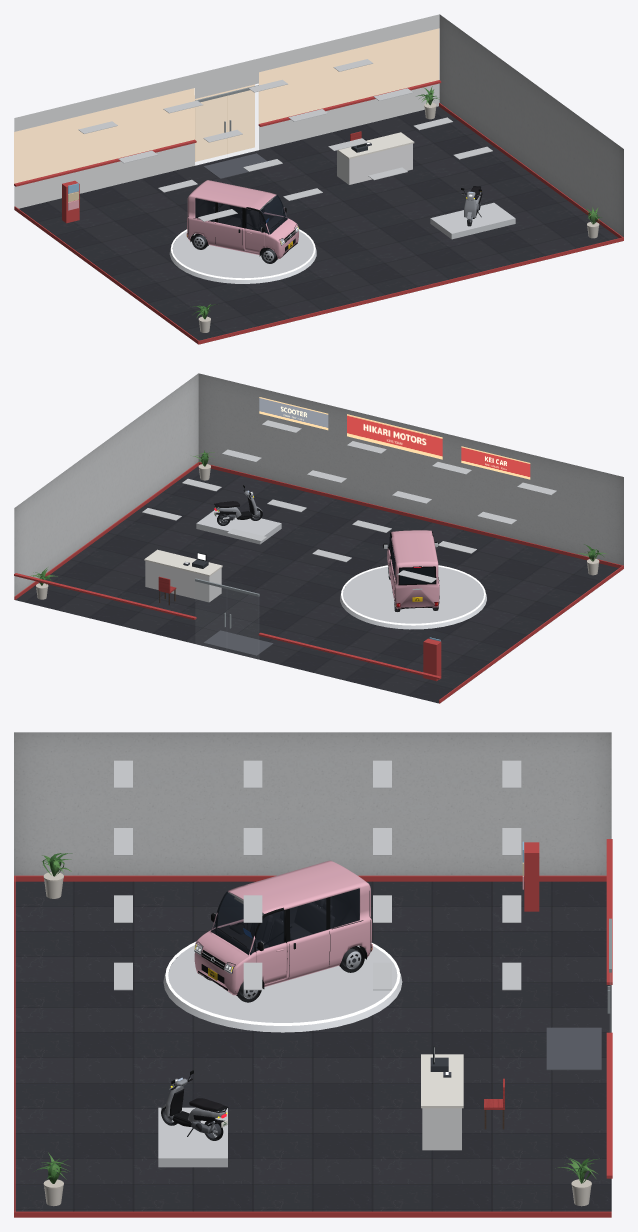
The model's file is interior-motors.opt.glb.
The picture shows the model from 3 angles, top to bottom: view 1: azimuth 30°, elevation 25°; view 2: azimuth 150°, elevation 25°; view 3: azimuth 270°, elevation 25°; orthographic projection. The views are drawn at different scales.
Visible parts, largest first — view 1: object 1, interior:motors:street-view, object 31, object 32, turntable, object 34, object 36; view 2: object 1, object 31, object 34, turntable, object 36, name-sign, object 27, object 28, object 32; view 3: object 1, object 31, turntable, object 34, object 36, object 32, object 39.
Boxes of the visible parts, left/top/right/bottom form: object 1: left=19, top=106, right=618, bottom=342; interior:motors:street-view: left=14, top=28, right=439, bottom=183; object 31: left=439, top=14, right=623, bottom=237; object 32: left=14, top=14, right=439, bottom=210; turntable: left=169, top=180, right=316, bottom=283; object 34: left=14, top=80, right=623, bottom=344; object 36: left=78, top=59, right=492, bottom=221; object 1: left=15, top=466, right=618, bottom=703; object 31: left=14, top=373, right=623, bottom=596; object 34: left=14, top=462, right=623, bottom=703; turntable: left=340, top=530, right=486, bottom=629; object 36: left=142, top=420, right=556, bottom=582; name-sign: left=347, top=414, right=442, bottom=459; object 27: left=461, top=446, right=530, bottom=479; object 28: left=259, top=397, right=328, bottom=430; object 32: left=203, top=630, right=440, bottom=655; object 1: left=14, top=881, right=611, bottom=1211; object 31: left=14, top=732, right=611, bottom=875; turntable: left=163, top=860, right=402, bottom=1032; object 34: left=14, top=839, right=612, bottom=1217; object 36: left=114, top=760, right=521, bottom=990; object 32: left=522, top=841, right=601, bottom=1070; object 39: left=34, top=853, right=599, bottom=1183.
Bounding box in the file's own units: 16 × 3.3 × 12.25.
55 materials, 7 textured.
